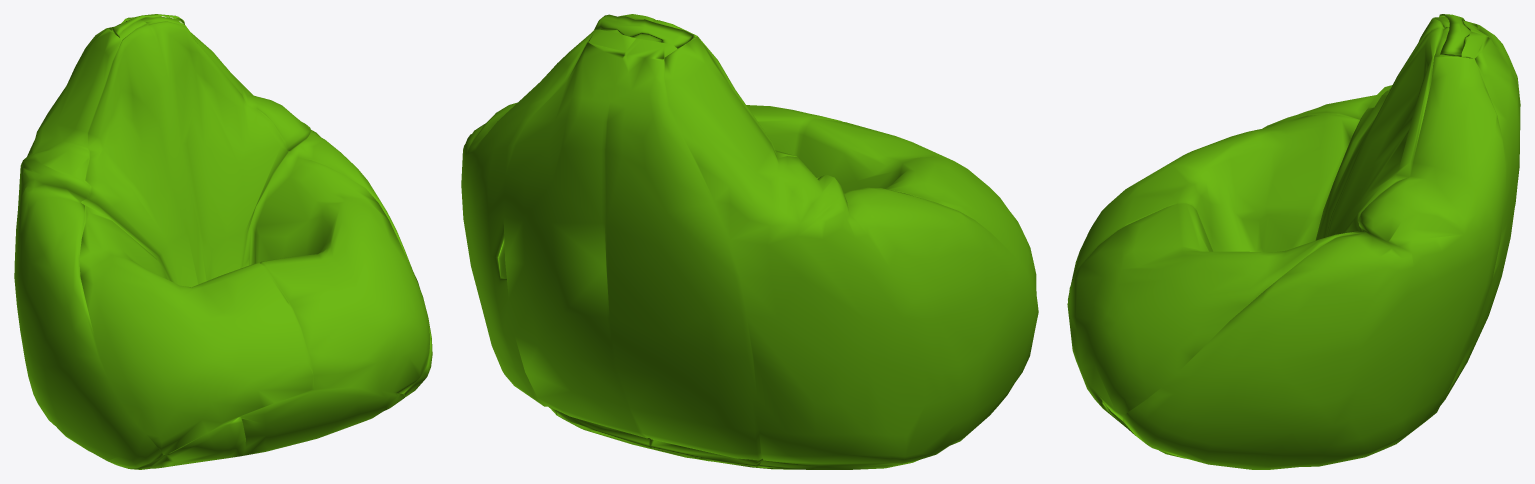
3 renders of one model, left to right at view 1: azimuth 30°, elevation 25°; view 2: azimuth 150°, elevation 25°; view 3: azimuth 270°, elevation 25°, orthographic. The views are drawn at different scales.
Parts seen in each view (by area): view 1: consolidatedNode; view 2: consolidatedNode; view 3: consolidatedNode.
Boxes of the visible parts, <box> form: consolidatedNode: <box>14,14,432,469</box>; consolidatedNode: <box>461,14,1038,469</box>; consolidatedNode: <box>1067,14,1520,469</box>.
Bounding box in the file's own units: 1.07 × 0.9894 × 1.07.
